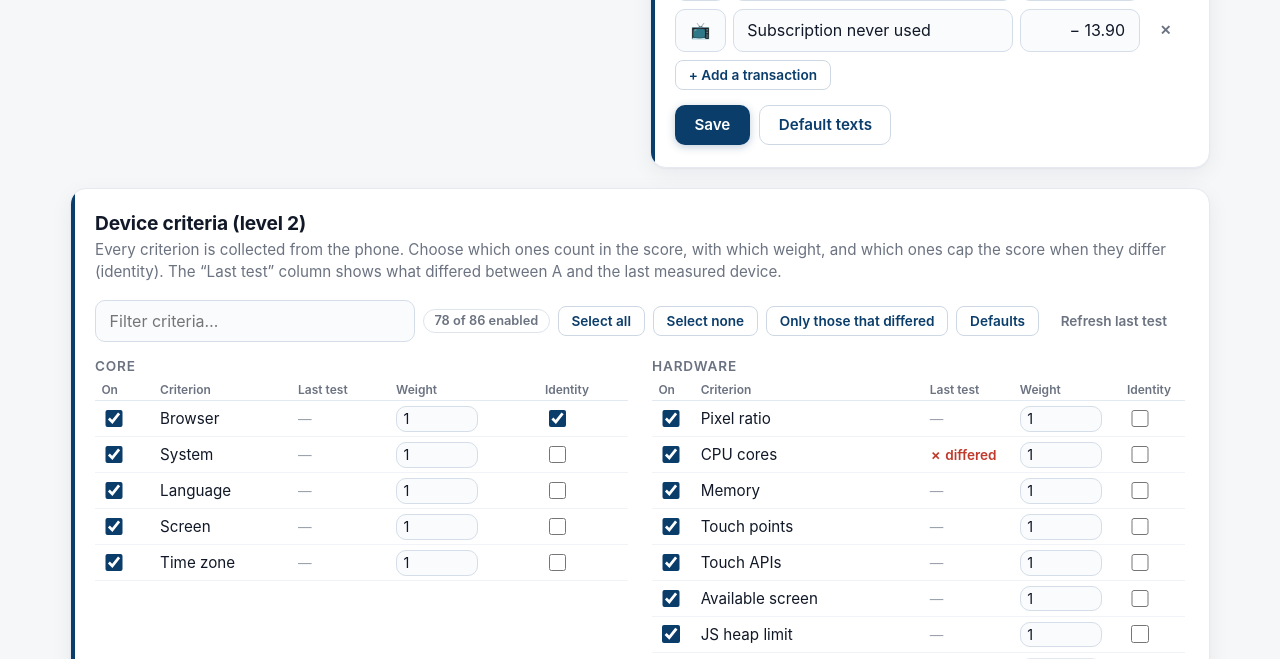
Test: Config : choix des critères de l’empreinte › « Only those that differed » ne garde que les critères qui ont différé au dernier test
(page scrolled)
Click the button "Only those that differed": point(857, 321) [766, 306, 948, 336]
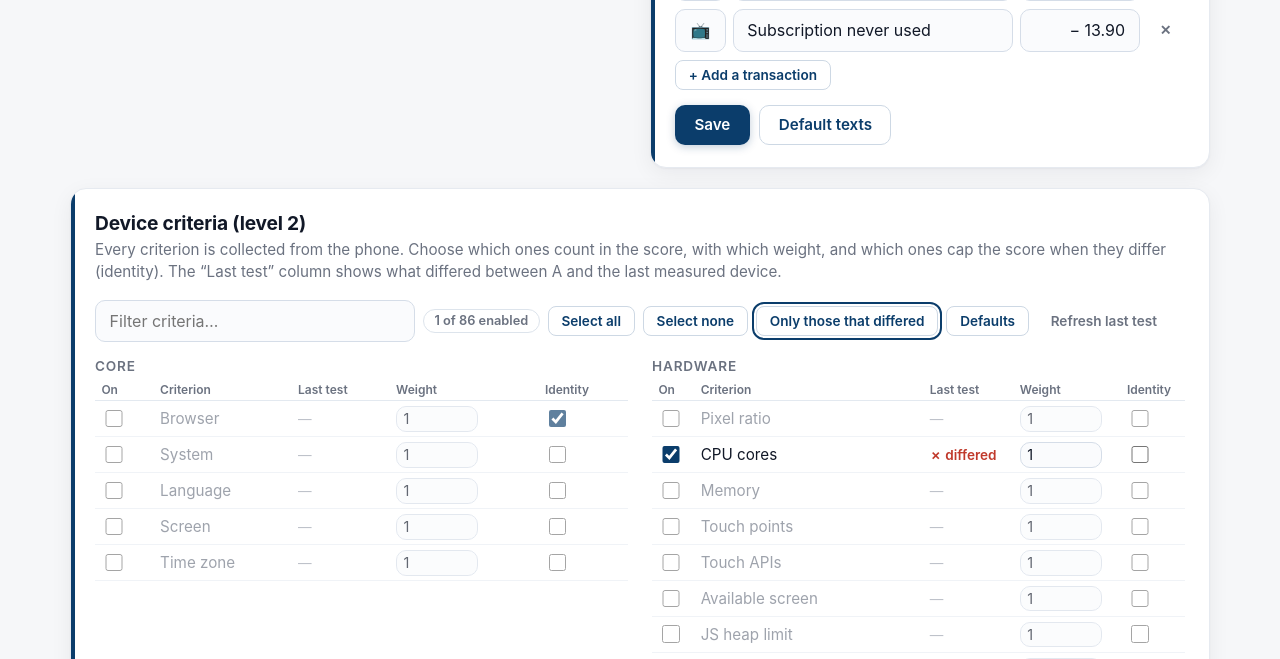
expect the checkbox named "Enable CPU cores" is checked: met, box [662, 446, 680, 463]
expect the text "1 of 86 enabled" is shown: met, box [423, 309, 540, 333]
expect the checkbox named "Enable Memory" is not checked: met, box [662, 482, 680, 499]
